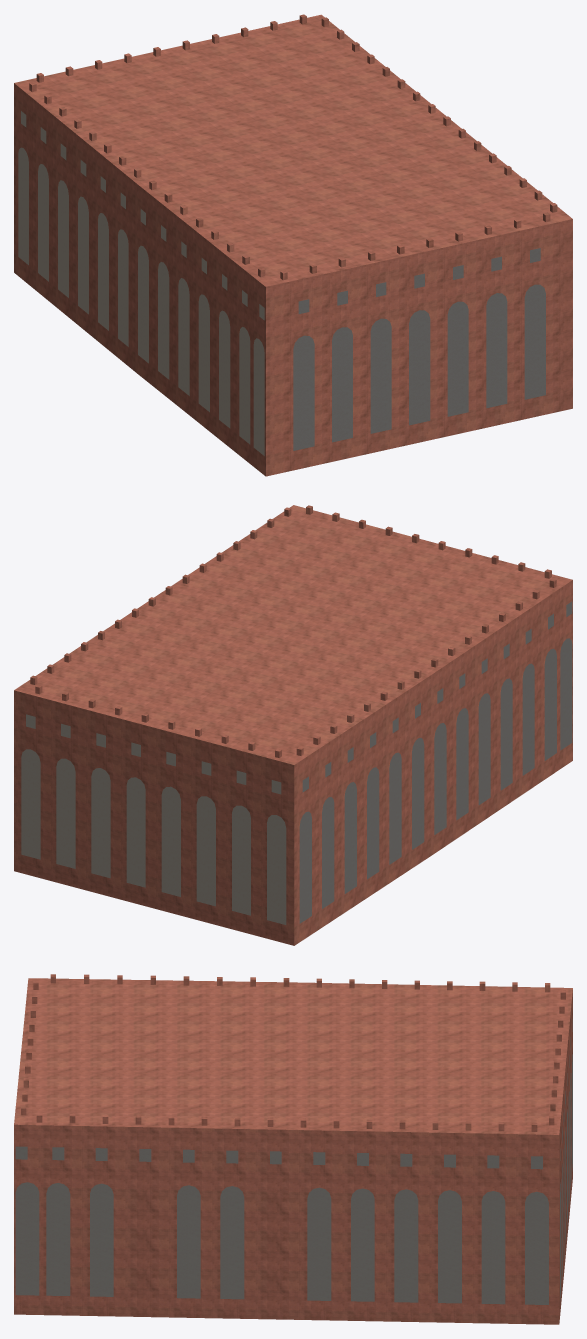
File: institut-d-art-et-d-archeologie.glb
3 renders of one model, top to bottom at view 1: azimuth 30°, elevation 25°; view 2: azimuth 150°, elevation 25°; view 3: azimuth 270°, elevation 25°, orthographic. The views are drawn at different scales.
Visible parts, largest first — view 1: terracotta, window; view 2: terracotta, window; view 3: terracotta, window.
Boxes of the visible parts, x1,y1,x2,y2 form: terracotta: [14, 14, 572, 476]; window: [18, 111, 545, 455]; terracotta: [14, 505, 572, 945]; window: [21, 601, 572, 924]; terracotta: [14, 974, 572, 1324]; window: [15, 1019, 572, 1304].
Bounding box in the file's own units: 34.2 × 20 × 51.5.
2 materials, 2 textured.
